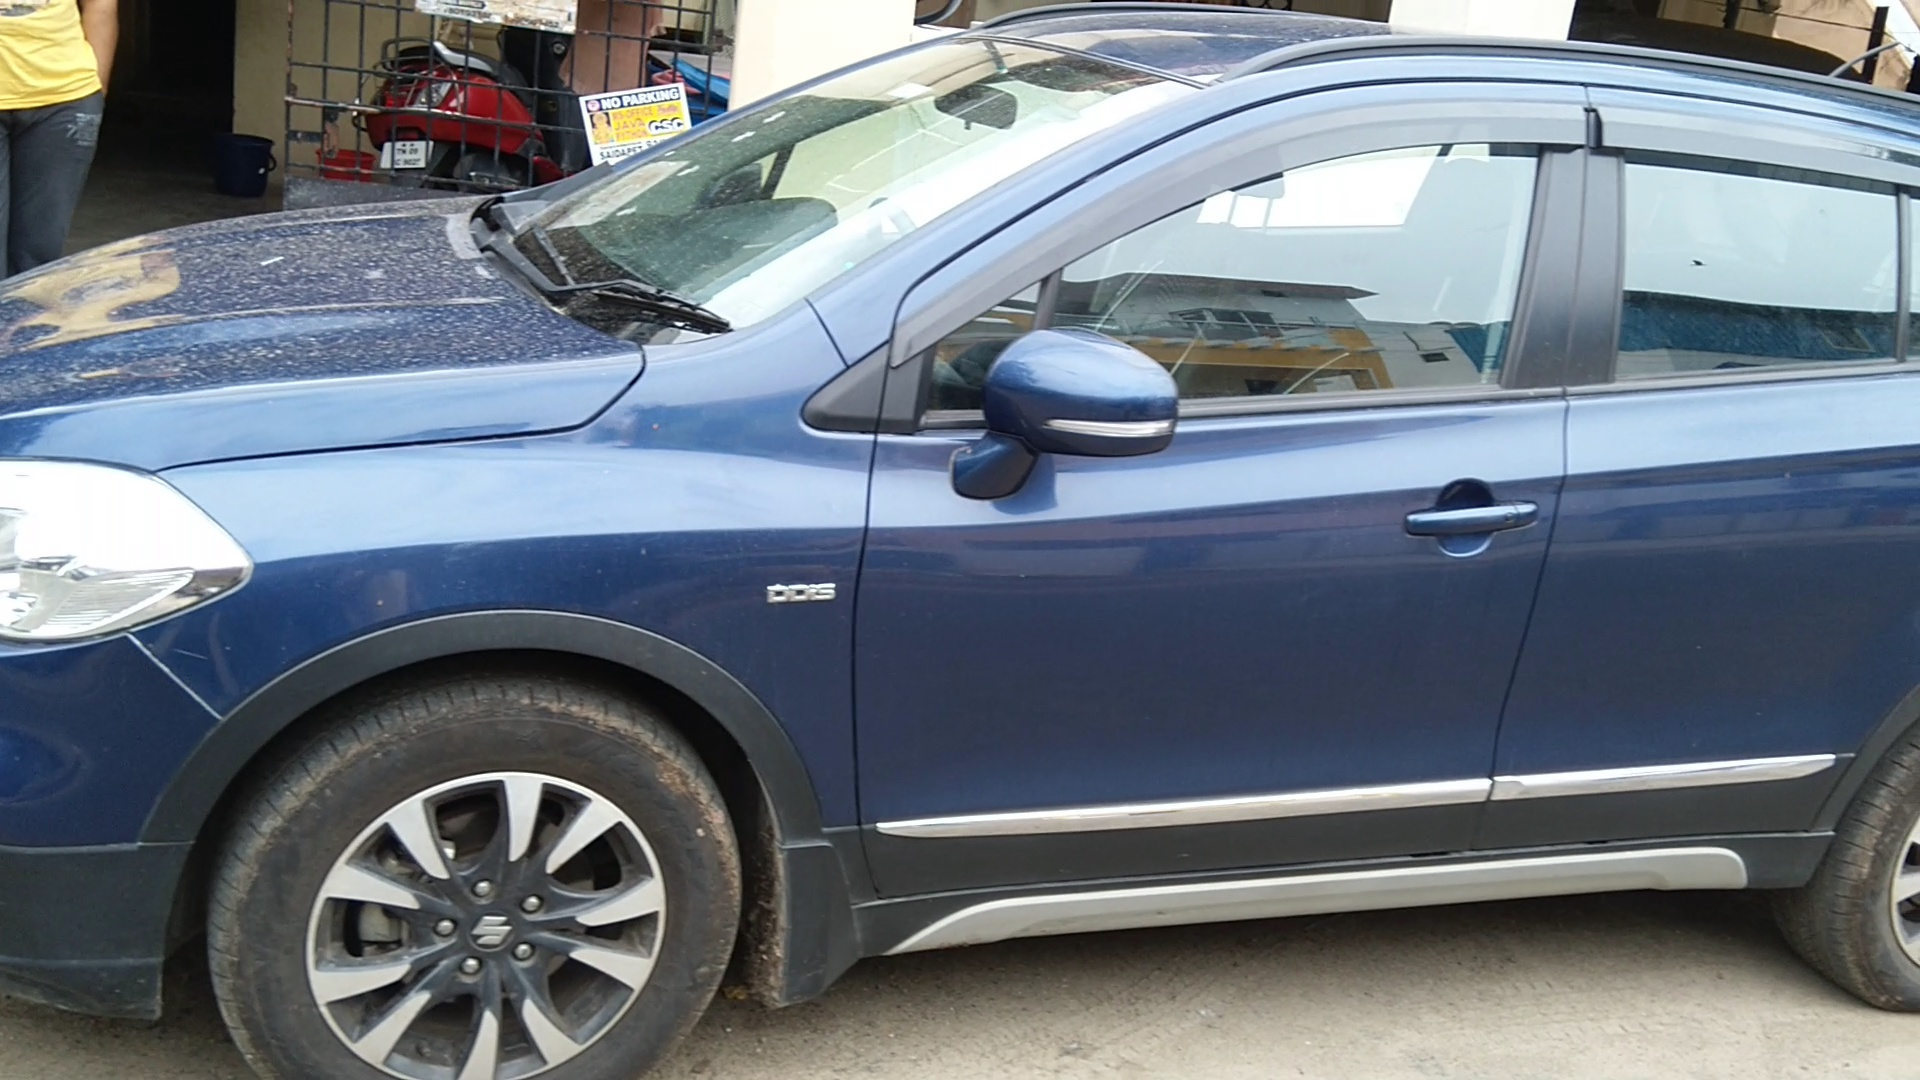alloy_wheel: (196, 687, 732, 1080)
headlamp: (1, 434, 287, 684)
ovr_mirror: (961, 319, 1193, 493)
